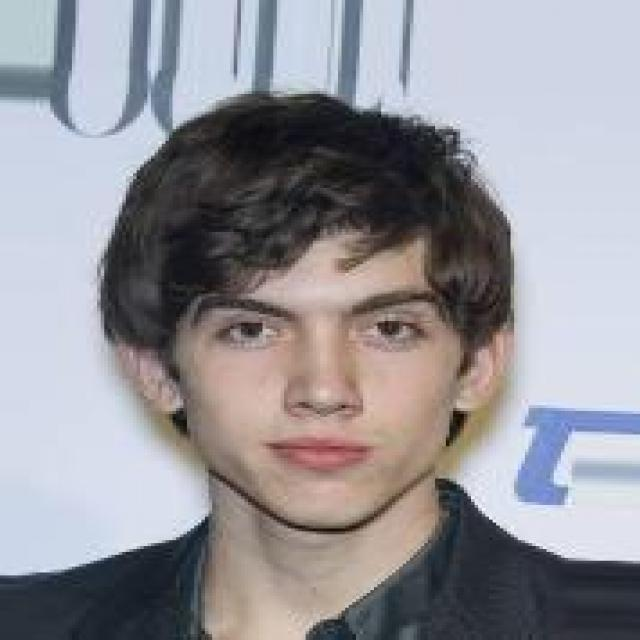nomask: (115, 150, 557, 511)
